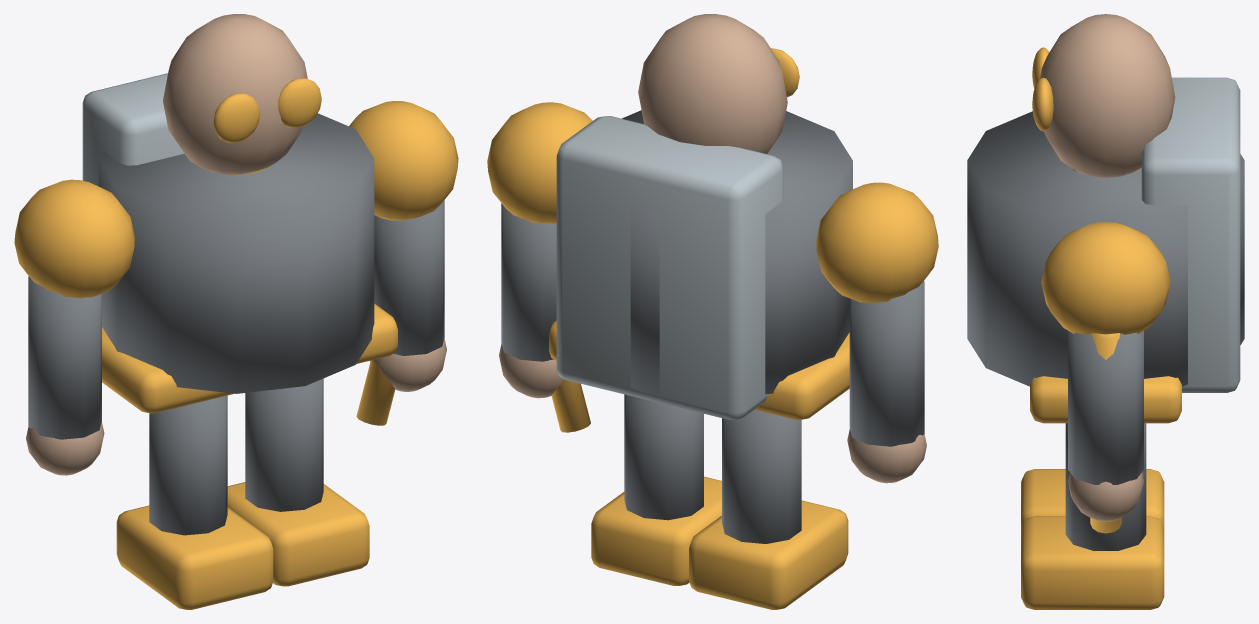
File: Engineer_Placeholder.glb
3 views of the same model, side by side, from view 1: azimuth 30°, elevation 25°; view 2: azimuth 150°, elevation 25°; view 3: azimuth 270°, elevation 25° (orthographic).
Visible parts, largest first — view 1: Engineer_Placeholder_Export; view 2: Engineer_Placeholder_Export; view 3: Engineer_Placeholder_Export.
Boxes of the visible parts, bbox=[...] form: Engineer_Placeholder_Export: bbox=[14, 14, 458, 609]; Engineer_Placeholder_Export: bbox=[487, 14, 938, 609]; Engineer_Placeholder_Export: bbox=[967, 14, 1244, 609].
Size of the model in its own units: 133 by 162 by 74.4.
